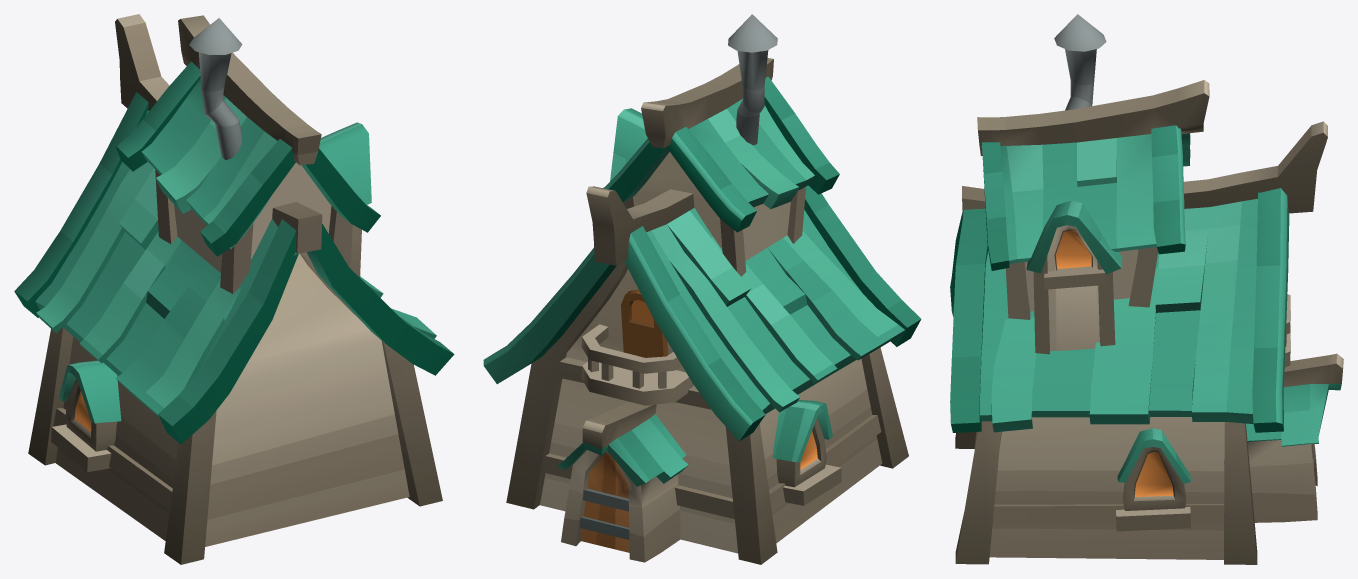
The model's file is snow-house.obj.
3 renders of one model, left to right at view 1: azimuth 30°, elevation 25°; view 2: azimuth 150°, elevation 25°; view 3: azimuth 270°, elevation 25°, orthographic. The views are drawn at different scales.
Visible parts, largest first — view 1: snow-house; view 2: snow-house; view 3: snow-house.
Boxes of the visible parts, box(x1,y1,x2,y2) form: snow-house: box(14, 14, 454, 564); snow-house: box(483, 14, 921, 564); snow-house: box(950, 14, 1343, 564).
Bounding box in the file's own units: 15.68 × 24.77 × 18.71.
1 material, 1 textured.
